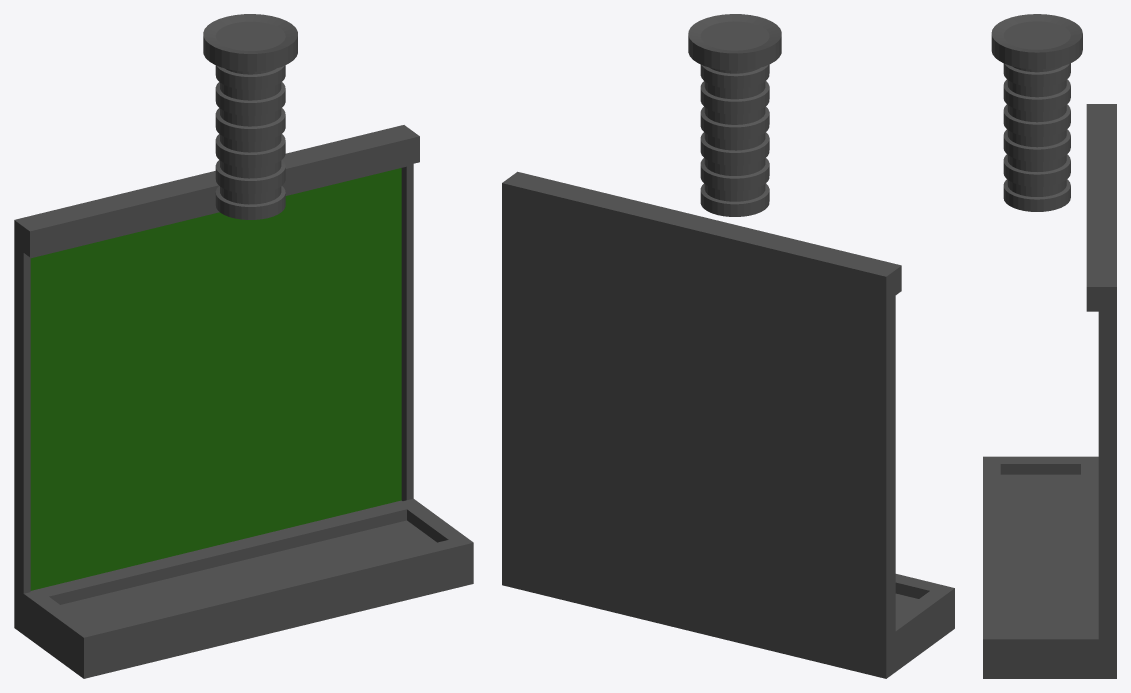
File: rocket_computer.fbx
The picture shows the model from 3 angles, left to right: view 1: azimuth 30°, elevation 25°; view 2: azimuth 150°, elevation 25°; view 3: azimuth 270°, elevation 25°; orthographic projection. The views are drawn at different scales.
Parts seen in each view (by area): view 1: Cube; view 2: Cube; view 3: Cube.
Boxes of the visible parts, box(x1,y1,x2,y2) form: Cube: box(14, 14, 473, 678); Cube: box(502, 14, 954, 678); Cube: box(983, 14, 1116, 678).
Bounding box in the file's own units: 108 × 153 × 33.46.
